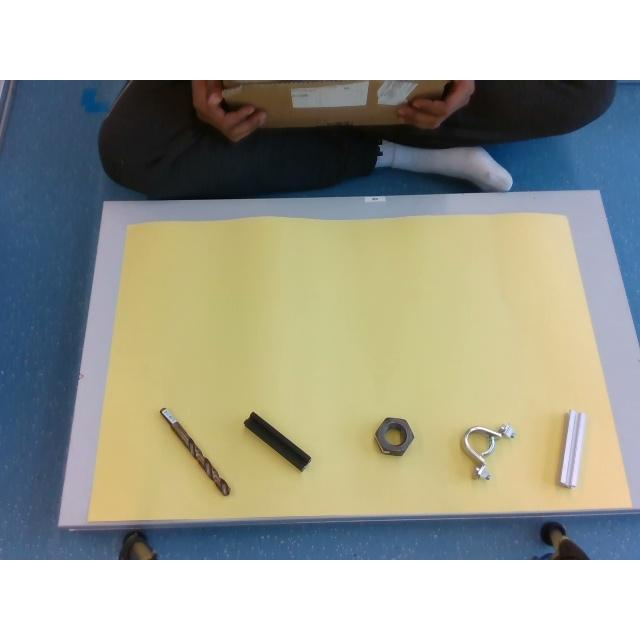Drill: (161, 408, 229, 496)
F20_20_B: (244, 411, 310, 471)
F20_20_G: (558, 409, 586, 487)
Housing: (461, 424, 517, 480)
M30: (374, 417, 414, 455)
